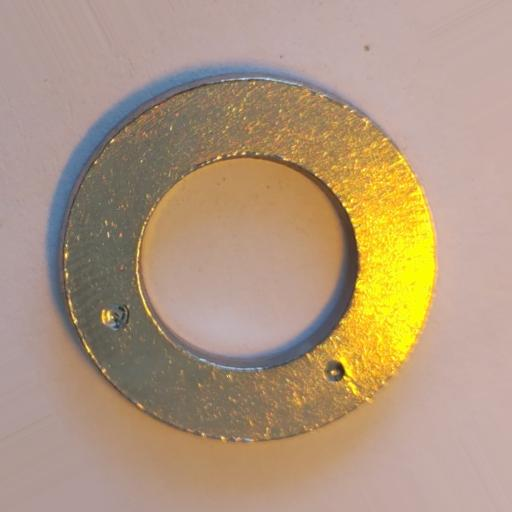circular_cavity: (101, 302, 131, 331), (324, 360, 346, 383)
